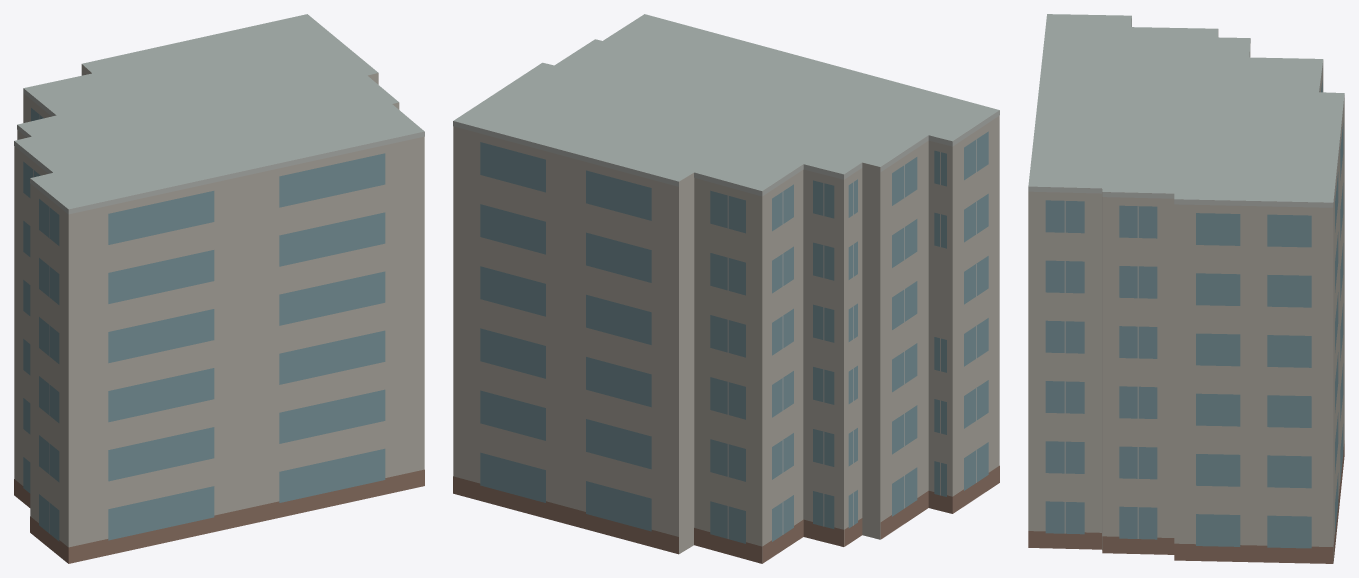
The model's file is survey-upis-32923196.glb.
The picture shows the model from 3 angles, left to right: view 1: azimuth 30°, elevation 25°; view 2: azimuth 150°, elevation 25°; view 3: azimuth 270°, elevation 25°; orthographic projection. The views are drawn at different scales.
Parts seen in each view (by area): view 1: survey-upis-32923196.tmp; view 2: survey-upis-32923196.tmp; view 3: survey-upis-32923196.tmp.
Part boxes in pixels (x1,y1,x2,y2): survey-upis-32923196.tmp: (14, 14, 424, 563); survey-upis-32923196.tmp: (453, 14, 999, 563); survey-upis-32923196.tmp: (1028, 14, 1344, 563).
Size of the model in its own units: 19.28 by 17.2 by 13.66.
